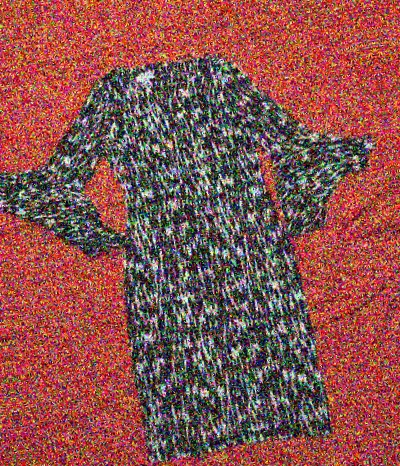Dress: (0, 5, 393, 466), (0, 63, 13, 466)
